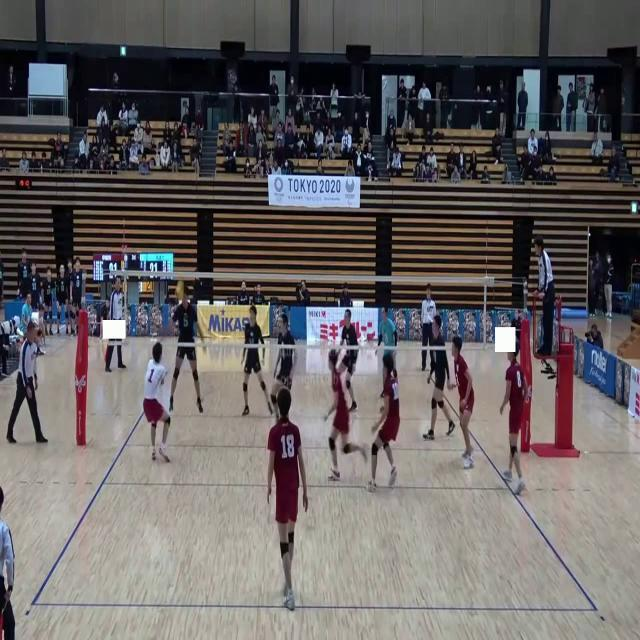volleyball: (175, 279, 184, 299)
